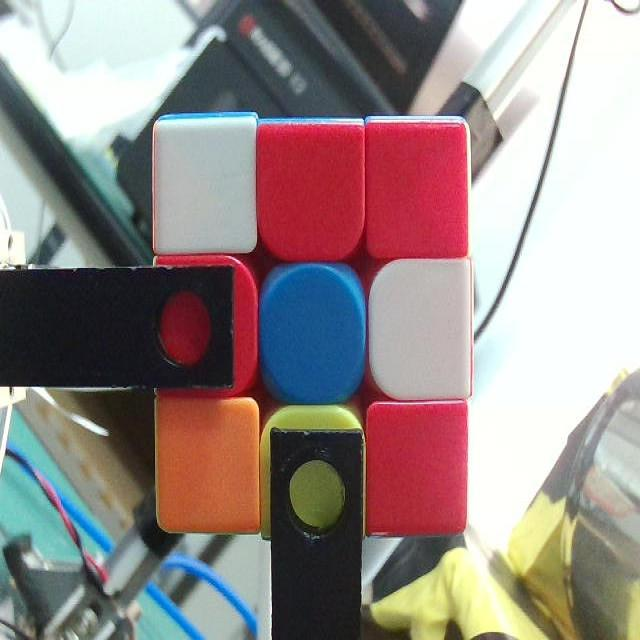b: (259, 259, 364, 402)
o: (157, 402, 257, 533)
r: (256, 126, 365, 258), (157, 258, 255, 397), (364, 127, 464, 262), (369, 404, 464, 532)
w: (368, 264, 469, 400), (157, 120, 253, 256)
y: (259, 405, 363, 550)
